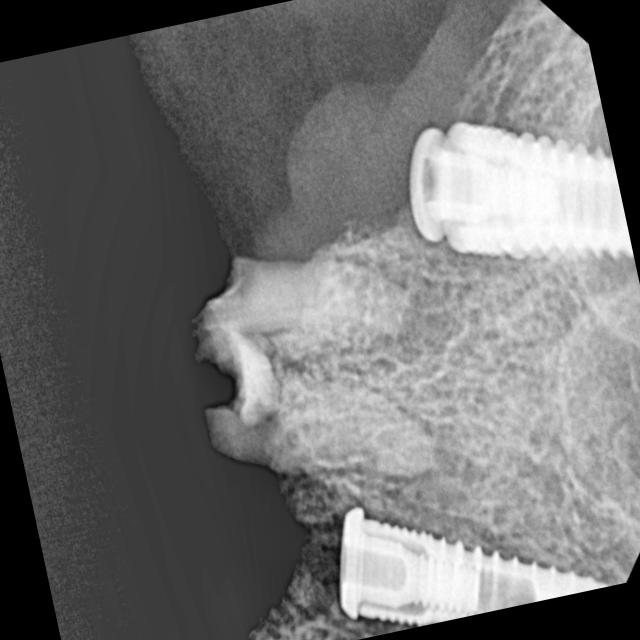Badly Decayed: (158, 206, 367, 514)
